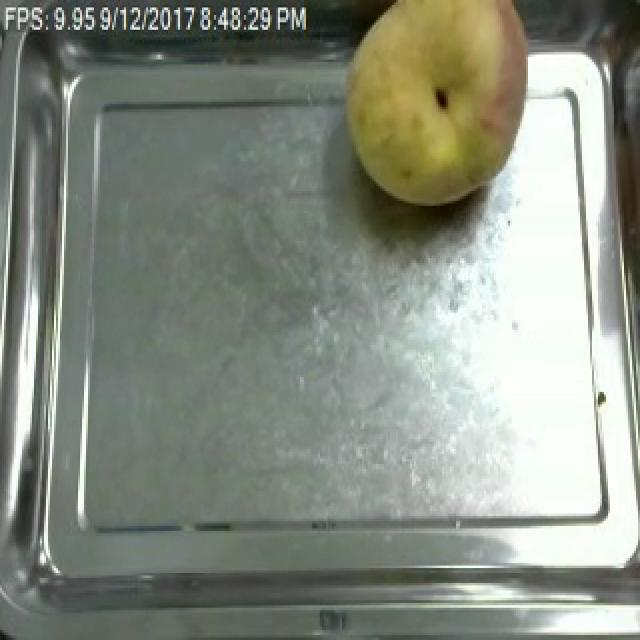Fruit: (332, 0, 542, 216)
